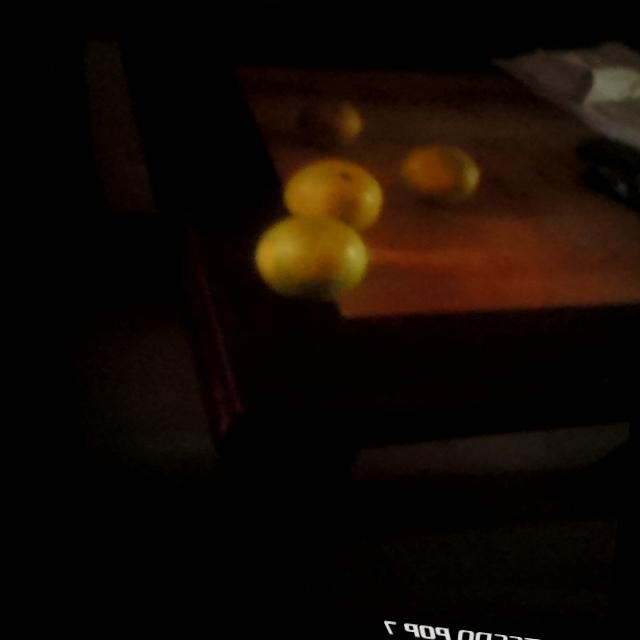agrume: (203, 206, 388, 322), (252, 141, 401, 234), (382, 134, 490, 222), (292, 89, 382, 159)
